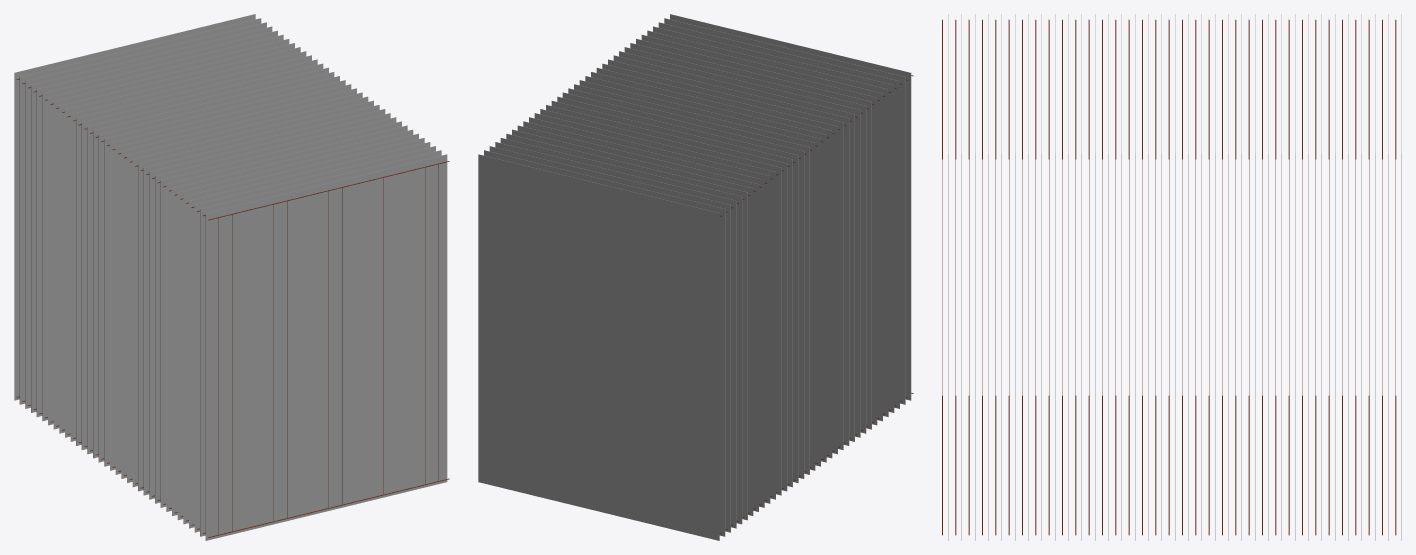
File: collec.fbx
3 renders of one model, left to right at view 1: azimuth 30°, elevation 25°; view 2: azimuth 150°, elevation 25°; view 3: azimuth 270°, elevation 25°, orthographic. The views are drawn at different scales.
Parts seen in each view (by area): view 1: Фальга.027; view 2: Фальга.027; view 3: Фальга.027.
Boxes of the visible parts, x1,y1,x2,y2 form: Фальга.027: (14,14,449,540); Фальга.027: (478,14,913,540); Фальга.027: (942,14,1401,540).
Size of the model in its own units: 5847 by 7591 by 8162.
